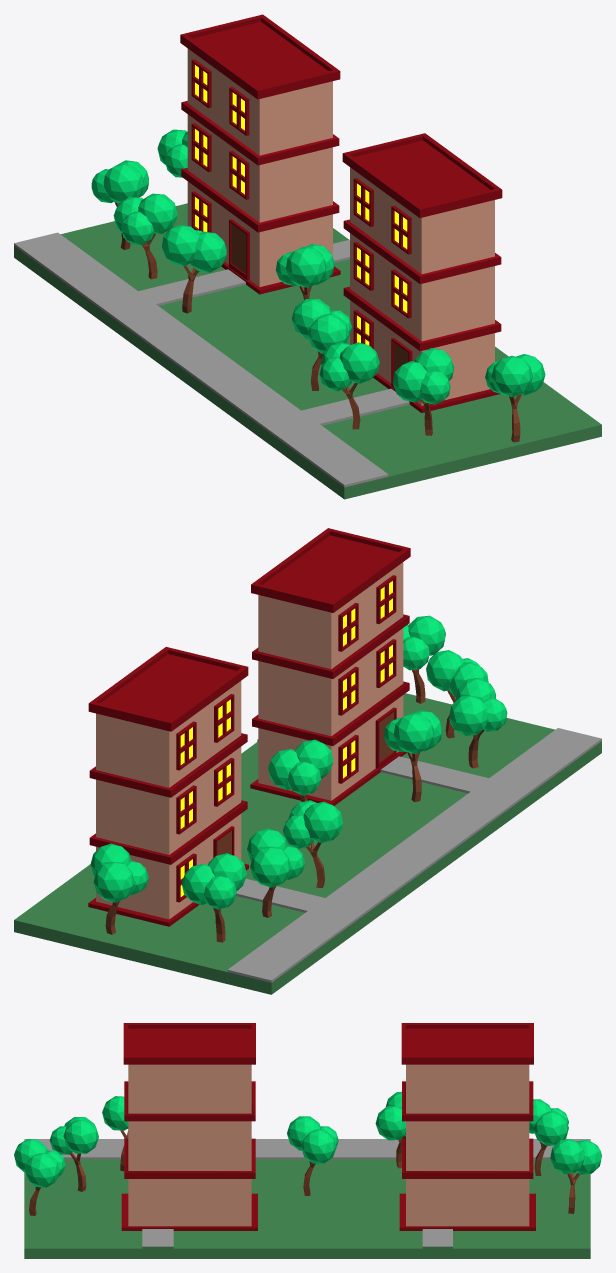
File: red_thirds 1.fbx
3 views of the same model, one above another, from view 1: azimuth 30°, elevation 25°; view 2: azimuth 150°, elevation 25°; view 3: azimuth 270°, elevation 25° (orthographic). The views are drawn at different scales.
Visible parts, largest first — view 1: Cube, Cube.001, Cube.002, Icosphere.022, Icosphere.001, Icosphere.019, Icosphere.028, Icosphere.007, Icosphere.005, Icosphere.010, Icosphere.008, Icosphere.026 (+5 smaller); view 2: Cube, Cube.002, Cube.001, Icosphere.014, Icosphere.011, Icosphere.004, Icosphere.029, Icosphere.007, Icosphere.025, Icosphere.022, Icosphere.020, Icosphere.001 (+11 smaller); view 3: Cube, Cube.002, Cube.001, Icosphere.025, Icosphere.013, Icosphere.002, Icosphere.023, Icosphere.020, Icosphere.008, Icosphere.028, Icosphere.001, Icosphere.022 (+3 smaller).
Part boxes in pixels (x1,y1,x2,y2): Cube: [14, 203, 601, 499]; Cube.001: [180, 14, 340, 294]; Cube.002: [342, 133, 502, 412]; Icosphere.022: [491, 355, 532, 396]; Icosphere.001: [286, 246, 326, 287]; Icosphere.019: [103, 163, 143, 202]; Icosphere.028: [339, 342, 379, 383]; Icosphere.007: [162, 225, 199, 265]; Icosphere.005: [307, 314, 349, 353]; Icosphere.010: [138, 193, 177, 234]; Icosphere.008: [190, 231, 226, 272]; Icosphere.026: [392, 361, 427, 402]; Cube: [14, 693, 601, 994]; Cube.002: [250, 528, 410, 805]; Cube.001: [88, 647, 248, 926]; Icosphere.014: [93, 861, 134, 902]; Icosphere.011: [250, 846, 290, 887]; Icosphere.004: [393, 712, 434, 753]; Icosphere.029: [449, 695, 487, 735]; Icosphere.007: [303, 801, 342, 842]; Icosphere.025: [426, 650, 465, 691]; Icosphere.022: [408, 615, 445, 655]; Icosphere.020: [181, 863, 214, 904]; Icosphere.001: [295, 739, 333, 778]; Cube: [24, 1139, 590, 1258]; Cube.002: [121, 1023, 257, 1230]; Cube.001: [399, 1023, 535, 1230]; Icosphere.025: [63, 1119, 98, 1153]; Icosphere.013: [550, 1139, 584, 1173]; Icosphere.002: [301, 1129, 336, 1163]; Icosphere.023: [24, 1153, 59, 1187]; Icosphere.020: [533, 1111, 568, 1145]; Icosphere.008: [375, 1106, 405, 1140]; Icosphere.028: [102, 1096, 128, 1130]; Icosphere.001: [287, 1116, 320, 1150]; Icosphere.022: [14, 1139, 47, 1172].
Bounding box in the file's own units: 4500 × 3585 × 10384.
